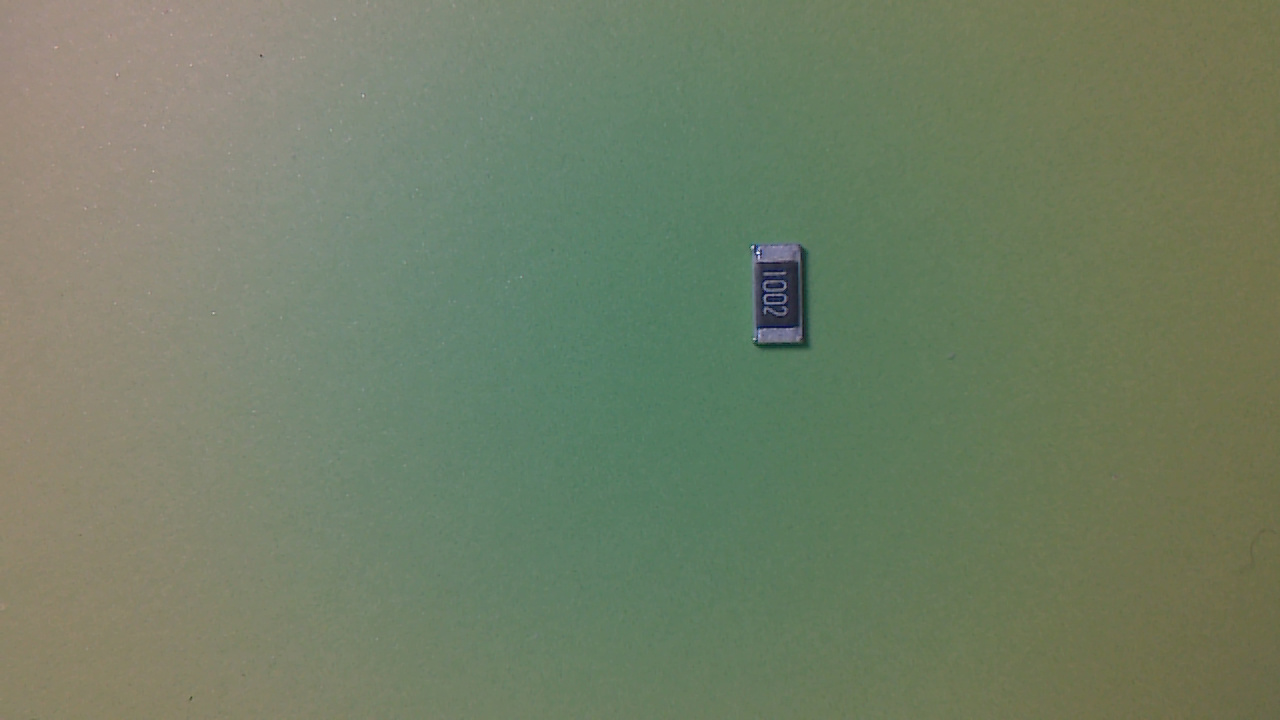Resistor: (752, 243, 816, 356)
